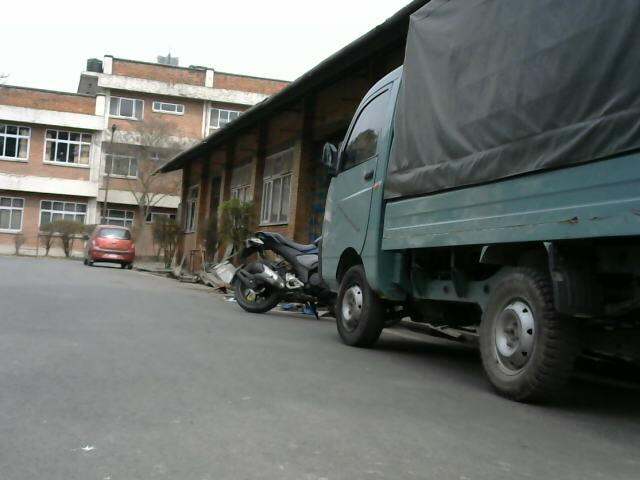Building: (0, 43, 265, 223)
Car: (87, 220, 141, 269)
Electrical Pole: (104, 121, 121, 222)
Motorcycle: (318, 0, 636, 366)
Road: (14, 254, 586, 480)
